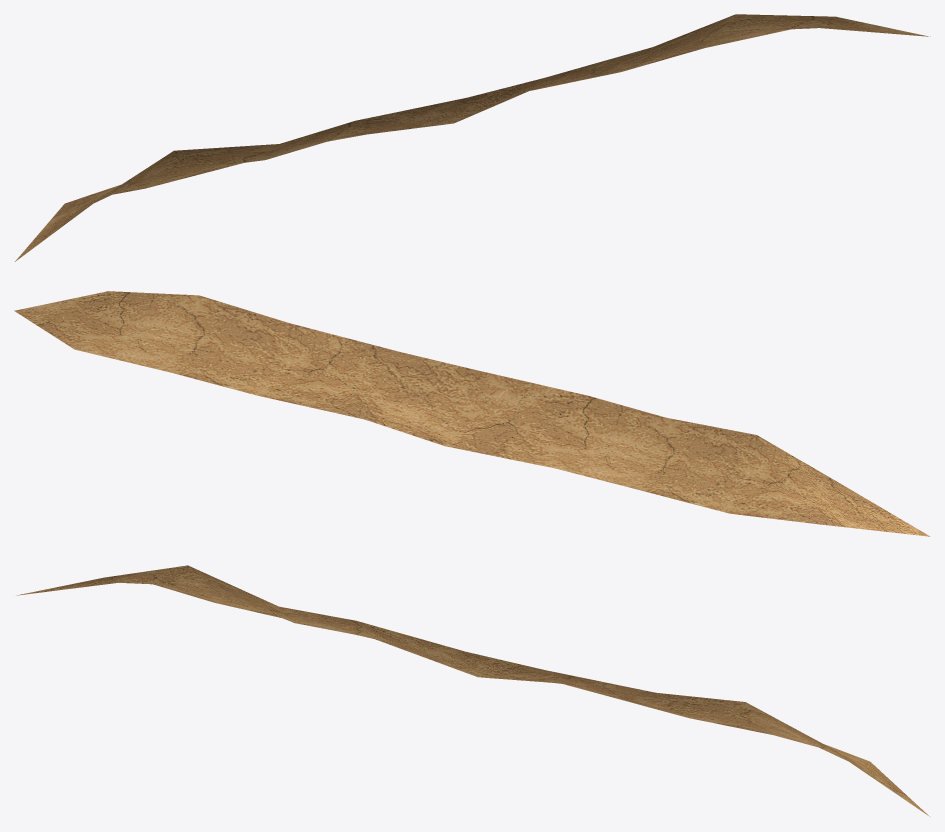
The model's file is Sand_Straight_01.fbx.
3 renders of one model, top to bottom at view 1: azimuth 30°, elevation 25°; view 2: azimuth 150°, elevation 25°; view 3: azimuth 330°, elevation 25°, orthographic.
Visible parts, largest first — view 1: pPlane14; view 2: pPlane14; view 3: pPlane14.
Boxes of the visible parts, box(x1,y1,x2,y2) form: pPlane14: box(15, 14, 930, 261); pPlane14: box(14, 291, 929, 536); pPlane14: box(16, 565, 929, 816).
Bounding box in the file's own units: 651 × 45.92 × 44.27.
